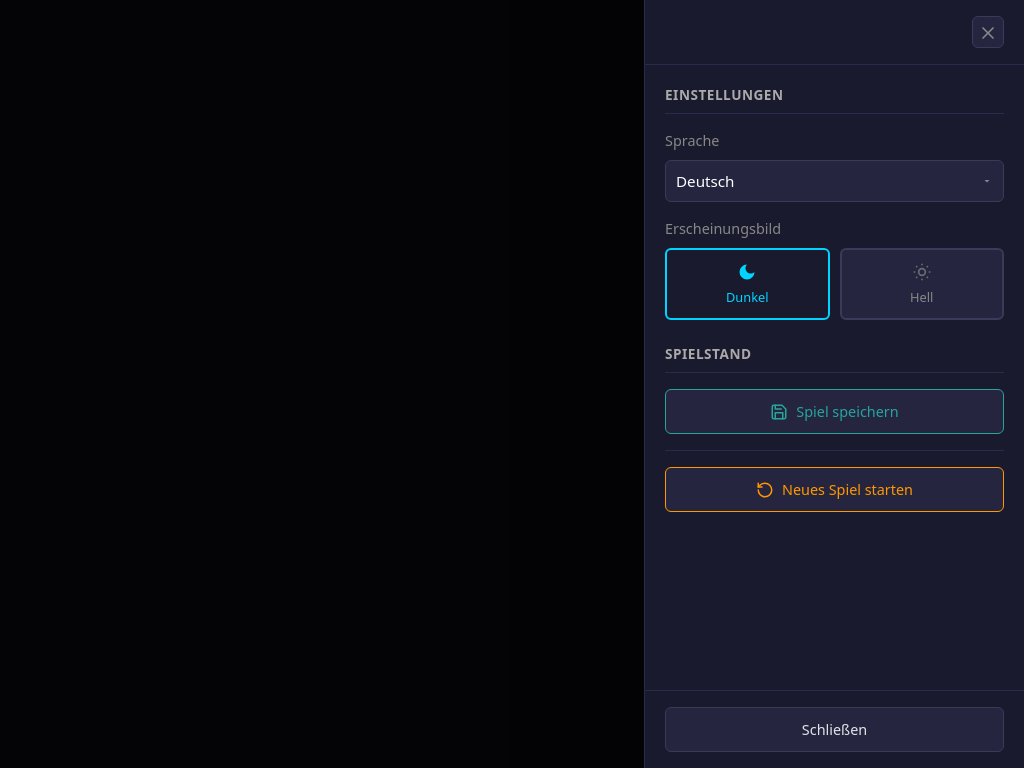
Scenario: SettingsSidebar › language change › should close dropdown after selecting a language
Click the button "Deutsch" at (705, 181), box x1=665 y1=160 x2=1004 y2=202
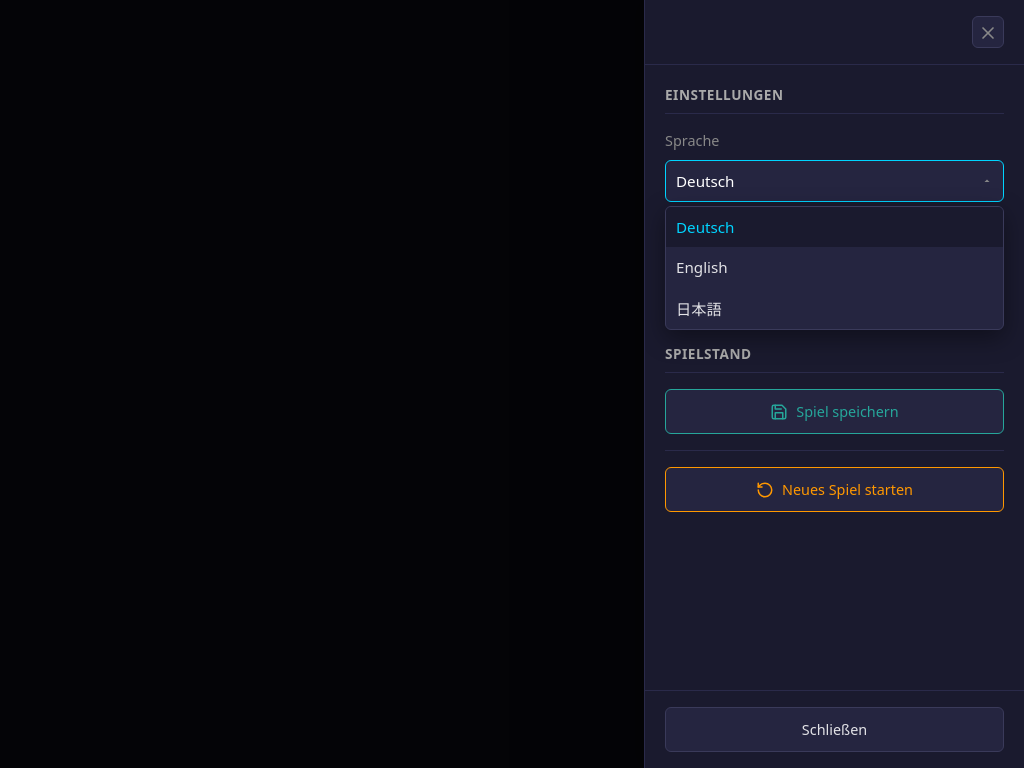
Click the button "English" at (702, 267), box x1=666 y1=247 x2=1003 y2=287
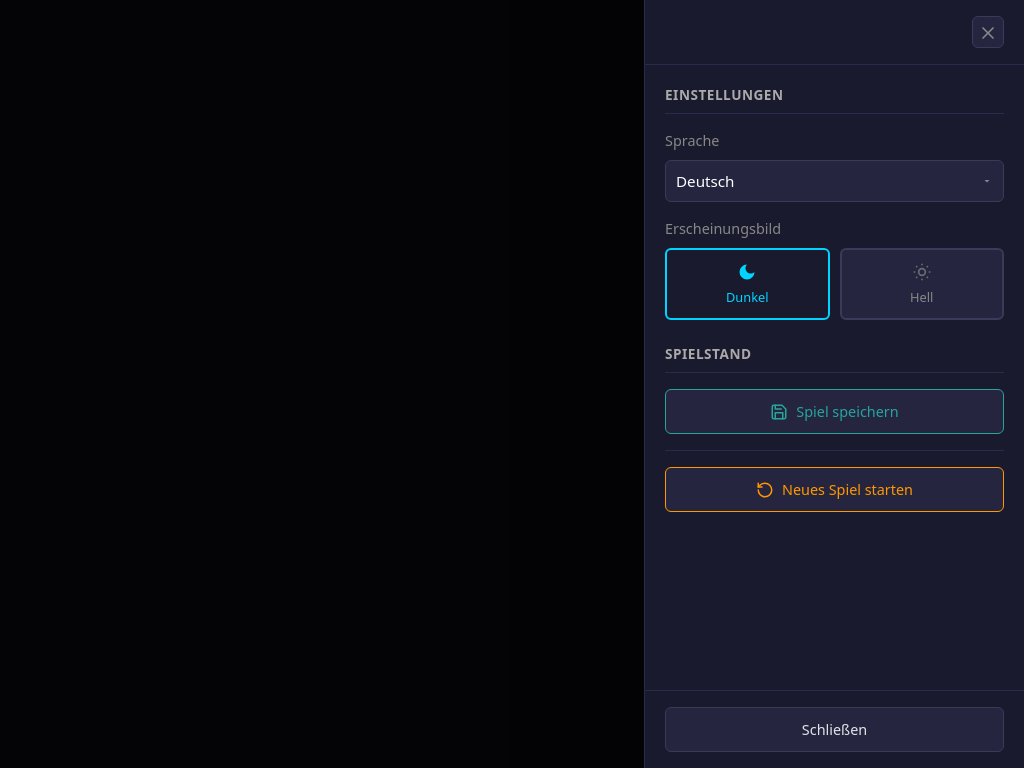
Expected: the button "English" is gone
